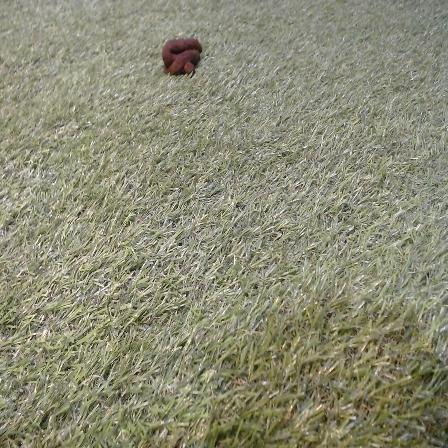dog-poop: (163, 37, 202, 77)
